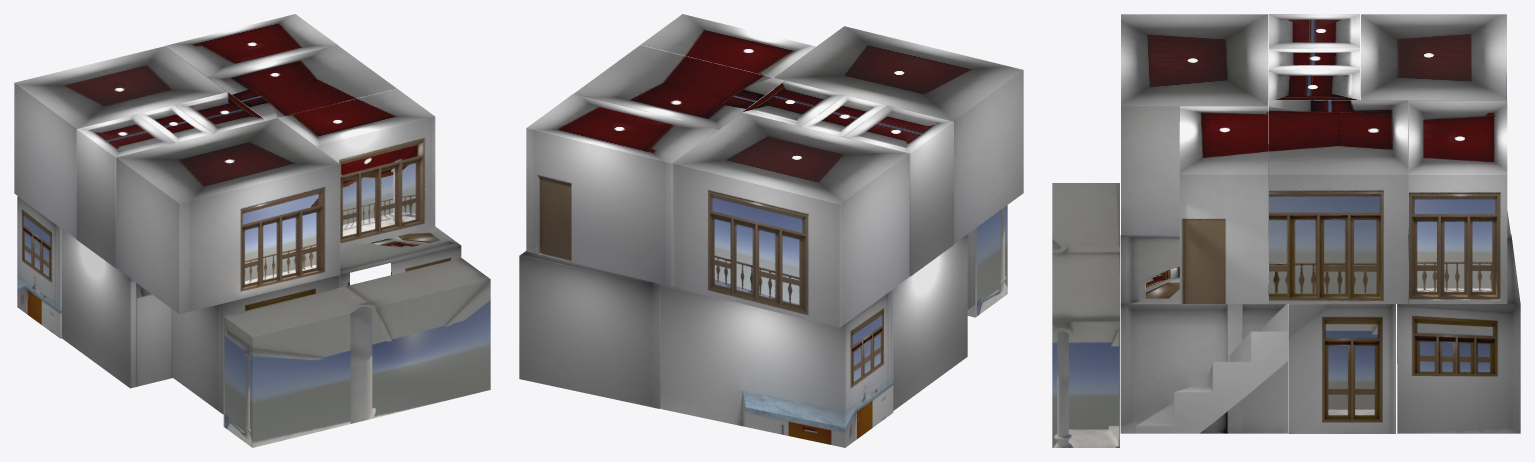
Rendered from house.glb.
3 renders of one model, left to right at view 1: azimuth 30°, elevation 25°; view 2: azimuth 150°, elevation 25°; view 3: azimuth 270°, elevation 25°, orthographic. The views are drawn at different scales.
Parts seen in each view (by area): view 1: Front Door Mesh, Bedroom4 Mesh, Bedroom5 Mesh, Landing 2 Mesh, Bathroom Mesh, Landing Mesh, Bathroom 2 Mesh, Bedroom 2 Mesh, Bedroom3 Mesh, Kitchen Mesh, Foyer Mesh, Hallway 1 Mesh (+1 smaller); view 2: Bedroom5 Mesh, Kitchen Mesh, Bedroom3 Mesh, Bedroom4 Mesh, Bedroom 1 Mesh, Landing Mesh, Bathroom Mesh, Bathroom 2 Mesh, Landing 2 Mesh, Front Door Mesh, Hallway 1 Mesh, Hallway 2 Mesh (+1 smaller); view 3: Landing Mesh, Foyer Mesh, Bedroom4 Mesh, Bedroom3 Mesh, Front Door Mesh, Landing 2 Mesh, Bedroom 1 Mesh, Living Room Mesh, Bedroom5 Mesh, Bathroom 2 Mesh, Hallway 1 Mesh, Hallway 2 Mesh.
Boxes of the visible parts, x1,y1,x2,y2 form: Front Door Mesh: (223, 258, 490, 447); Bedroom4 Mesh: (116, 118, 340, 313); Bedroom5 Mesh: (14, 46, 226, 238); Landing 2 Mesh: (277, 89, 435, 250); Bathroom Mesh: (62, 229, 172, 388); Landing Mesh: (207, 45, 396, 120); Bathroom 2 Mesh: (76, 114, 175, 267); Bedroom 2 Mesh: (173, 275, 339, 414); Bedroom3 Mesh: (165, 14, 337, 133); Kitchen Mesh: (17, 196, 61, 338); Foyer Mesh: (339, 227, 461, 287); Hallway 1 Mesh: (174, 92, 266, 133); Bedroom5 Mesh: (672, 112, 909, 327); Kitchen Mesh: (660, 284, 893, 447); Bedroom3 Mesh: (526, 94, 718, 286); Bedroom4 Mesh: (774, 26, 1023, 243); Bedroom 1 Mesh: (519, 251, 661, 408); Landing Mesh: (574, 45, 784, 129); Bathroom Mesh: (893, 234, 967, 410); Bathroom 2 Mesh: (843, 105, 953, 276); Landing 2 Mesh: (640, 14, 815, 77); Front Door Mesh: (747, 107, 1007, 317); Hallway 1 Mesh: (742, 80, 844, 137); Hallway 2 Mesh: (802, 95, 886, 137); Landing Mesh: (1269, 100, 1408, 303); Foyer Mesh: (1120, 235, 1287, 433); Bedroom4 Mesh: (1121, 14, 1268, 235); Bedroom3 Mesh: (1409, 100, 1507, 303); Front Door Mesh: (1052, 183, 1119, 447); Landing 2 Mesh: (1179, 106, 1268, 303); Bedroom 1 Mesh: (1397, 234, 1520, 433); Living Room Mesh: (1288, 304, 1395, 433); Bedroom5 Mesh: (1360, 14, 1506, 229); Bathroom 2 Mesh: (1269, 14, 1359, 100); Hallway 1 Mesh: (1268, 69, 1359, 99); Hallway 2 Mesh: (1269, 48, 1359, 100).
Bounding box in the file's own units: 8.16 × 6.43 × 10.01.
Materials: 48 (48 with a texture image).
